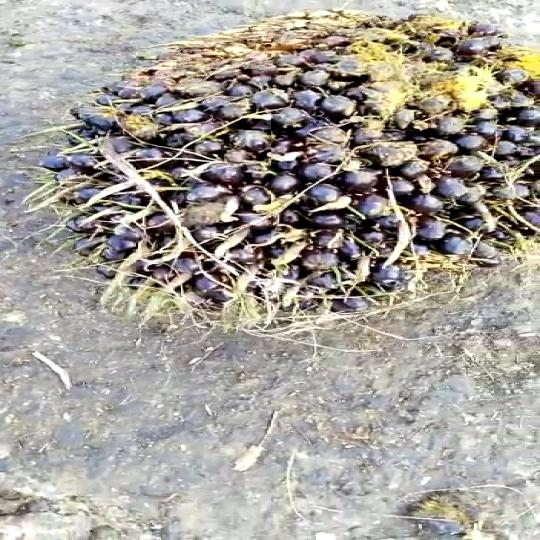mentah: (50, 0, 540, 315)
